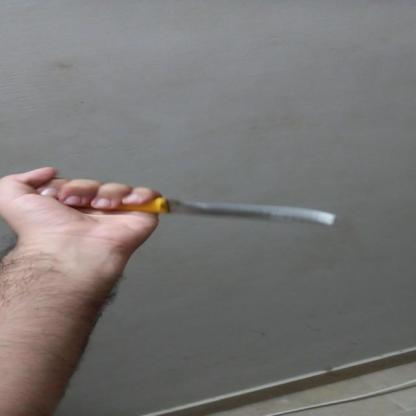Knife: (79, 196, 334, 226)
